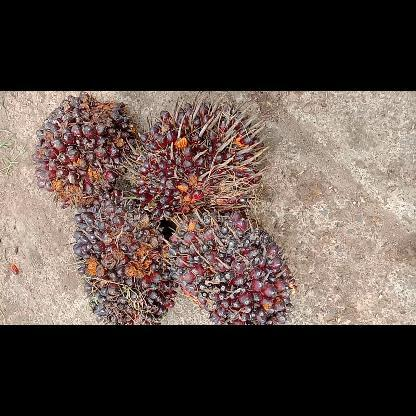Kurang masak: (126, 95, 268, 223), (166, 206, 298, 324), (73, 188, 179, 324), (27, 90, 139, 214)
